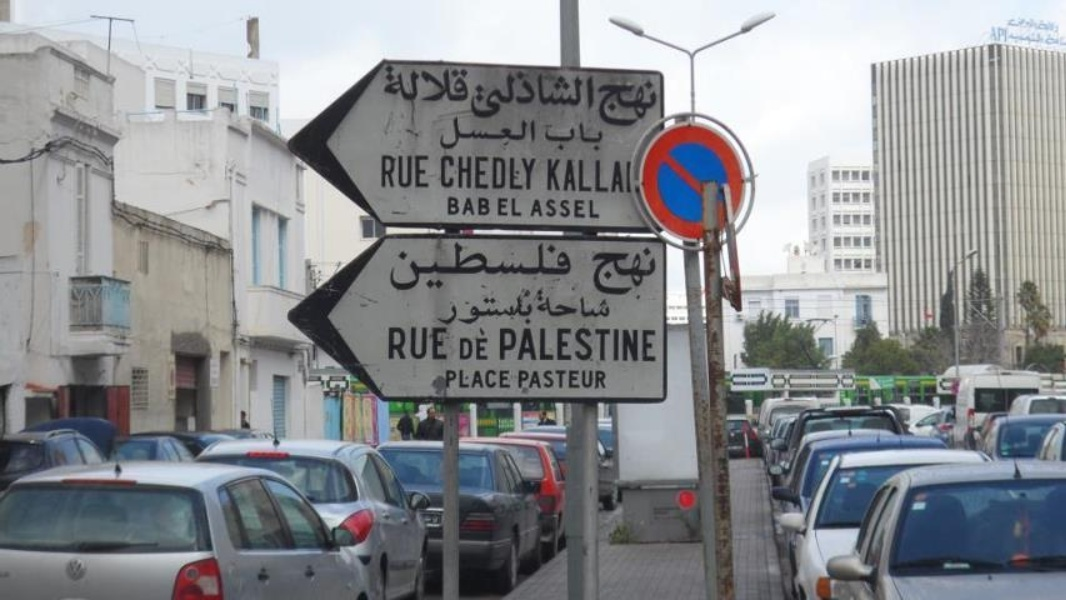text: (641, 77, 657, 129), (641, 244, 657, 296), (401, 239, 416, 292), (417, 239, 432, 292), (433, 239, 448, 292), (449, 239, 464, 292), (465, 239, 480, 292), (481, 239, 496, 292), (497, 239, 512, 292), (513, 239, 528, 292), (529, 239, 544, 292), (545, 239, 560, 292), (609, 77, 624, 129), (625, 77, 640, 129), (593, 244, 608, 296), (609, 244, 624, 296), (625, 244, 640, 296), (481, 69, 496, 119), (497, 69, 512, 119), (513, 69, 528, 119), (529, 69, 544, 119), (545, 69, 560, 119), (561, 69, 576, 119), (577, 69, 592, 119), (387, 239, 400, 292), (561, 239, 574, 292), (385, 64, 400, 106), (401, 64, 416, 106), (417, 64, 432, 106), (433, 64, 448, 106), (449, 64, 464, 106), (609, 157, 625, 194), (597, 77, 608, 129), (449, 154, 464, 192), (465, 154, 480, 192), (481, 154, 496, 192), (497, 154, 512, 192), (513, 154, 528, 192), (641, 328, 657, 363), (433, 327, 449, 362), (561, 157, 576, 194), (577, 157, 592, 194), (593, 157, 608, 194), (449, 291, 464, 328), (465, 291, 480, 328), (481, 291, 496, 328), (497, 291, 512, 328), (513, 291, 528, 328), (385, 154, 400, 189), (401, 154, 416, 189), (449, 116, 464, 151), (465, 116, 480, 151), (481, 116, 496, 151), (497, 116, 512, 151), (513, 116, 528, 151), (513, 328, 528, 363), (529, 328, 544, 363), (545, 328, 560, 363), (561, 328, 576, 363), (577, 328, 592, 363), (593, 328, 608, 363), (609, 328, 624, 363), (625, 328, 640, 363), (401, 327, 416, 362), (417, 327, 432, 362), (547, 157, 560, 194), (545, 121, 560, 152), (561, 121, 576, 152), (577, 121, 592, 152), (417, 154, 430, 189), (499, 328, 512, 363), (545, 289, 560, 318), (561, 289, 576, 318), (577, 289, 592, 318), (593, 289, 608, 318), (388, 327, 400, 362), (465, 337, 480, 362), (473, 69, 480, 119), (529, 368, 544, 391), (545, 368, 560, 391), (561, 368, 576, 391), (577, 368, 592, 391), (593, 368, 608, 391), (439, 154, 448, 192), (529, 154, 538, 192), (449, 369, 464, 391), (465, 369, 480, 391), (481, 369, 496, 391), (497, 369, 512, 391), (439, 116, 448, 151), (545, 198, 560, 219), (561, 198, 576, 219), (577, 198, 592, 219), (593, 121, 603, 152), (497, 197, 512, 217), (449, 197, 464, 216), (465, 197, 480, 216), (1009, 14, 1024, 33), (1025, 14, 1040, 33), (1041, 14, 1056, 33), (1009, 28, 1024, 47), (1025, 28, 1040, 47), (1041, 28, 1056, 47), (529, 116, 537, 151), (535, 289, 544, 318), (533, 198, 544, 219), (518, 368, 528, 391), (993, 26, 1007, 42), (529, 291, 535, 328), (513, 197, 524, 217), (465, 64, 470, 106), (481, 337, 489, 362), (443, 291, 448, 328), (481, 197, 490, 216), (593, 198, 600, 219), (380, 154, 384, 189), (459, 337, 464, 362), (1057, 28, 1063, 47), (590, 244, 592, 296), (593, 69, 595, 119), (609, 289, 612, 318), (445, 369, 448, 391), (1057, 14, 1060, 33), (989, 26, 992, 42), (447, 197, 448, 216)
